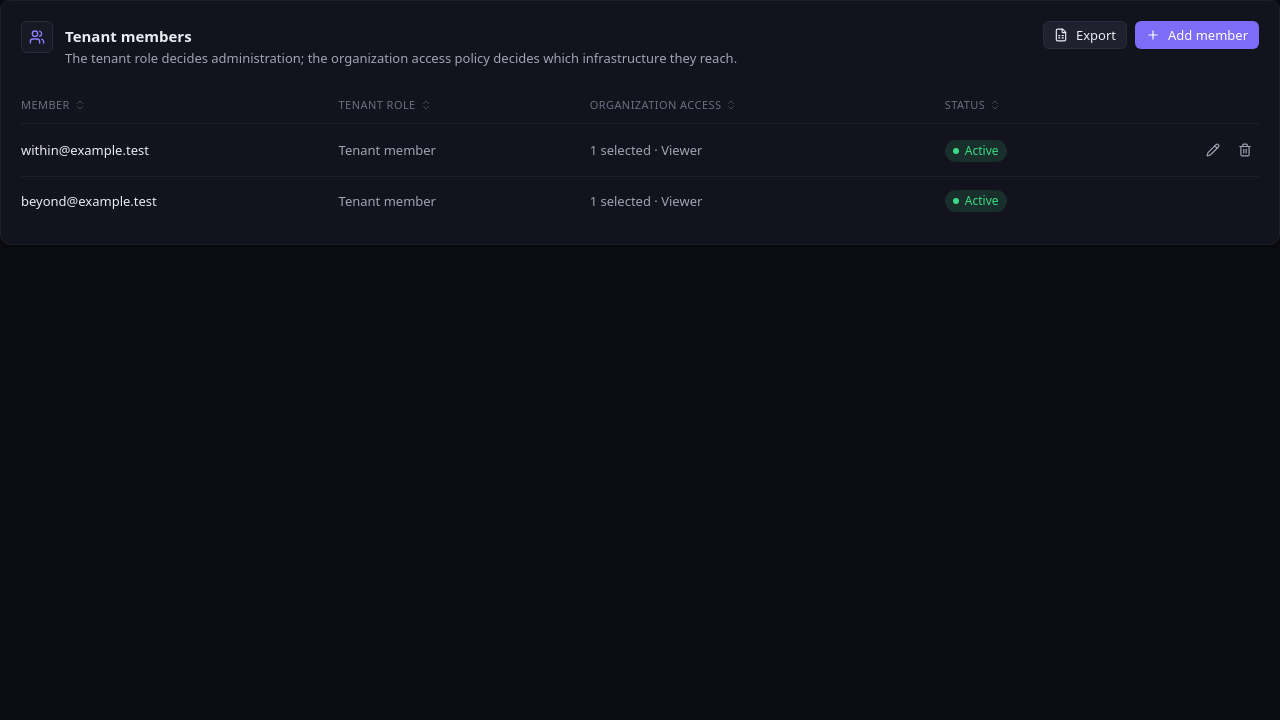
Test: tenant members of a scoped administrator › the dialog lists only their own active organizations; every access option stays available
Click the button named "Edit within@example.test": (1213, 150) [1199,136,1227,164]
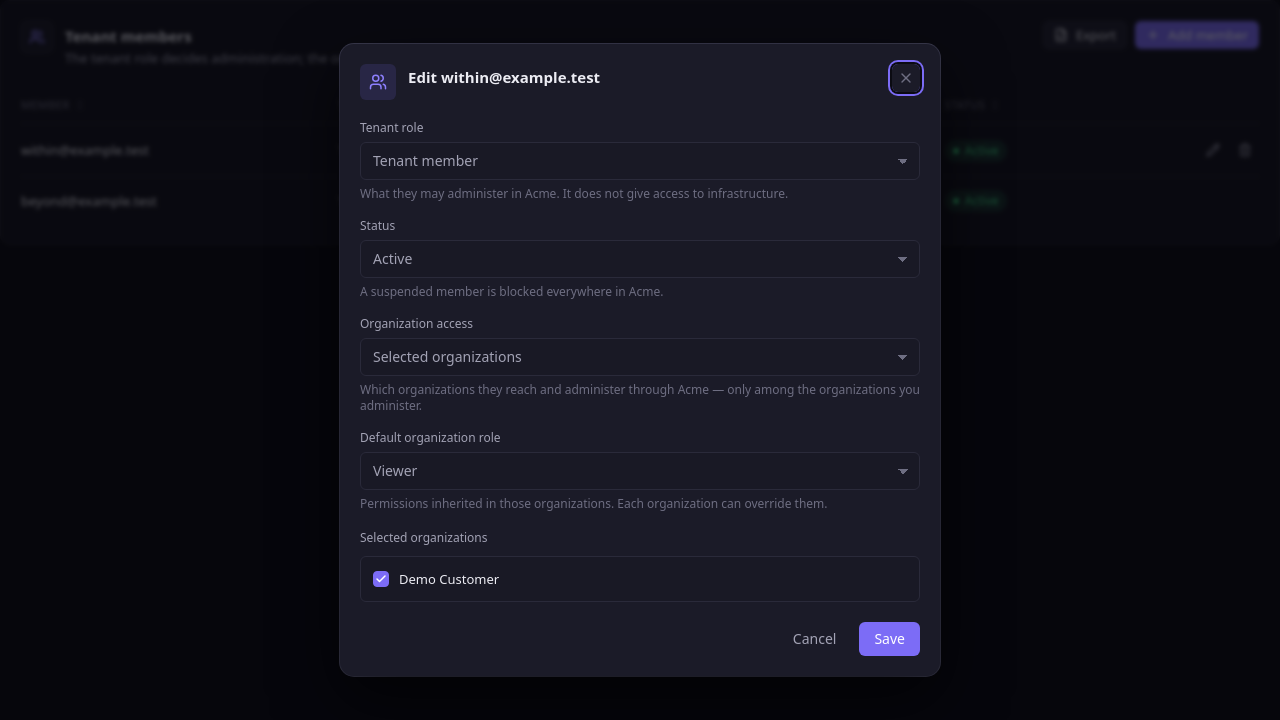
Check: the checkbox labelled "Demo Customer" is shown, box [399,569,499,589]
